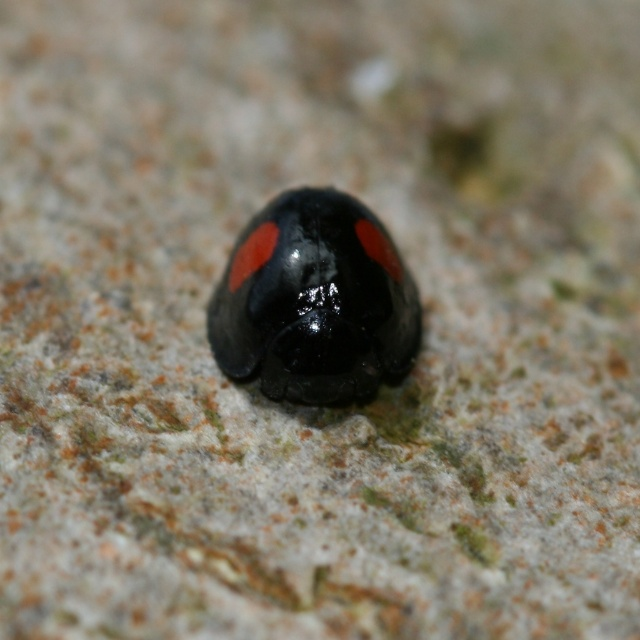Ladybug: (207, 186, 427, 415)
